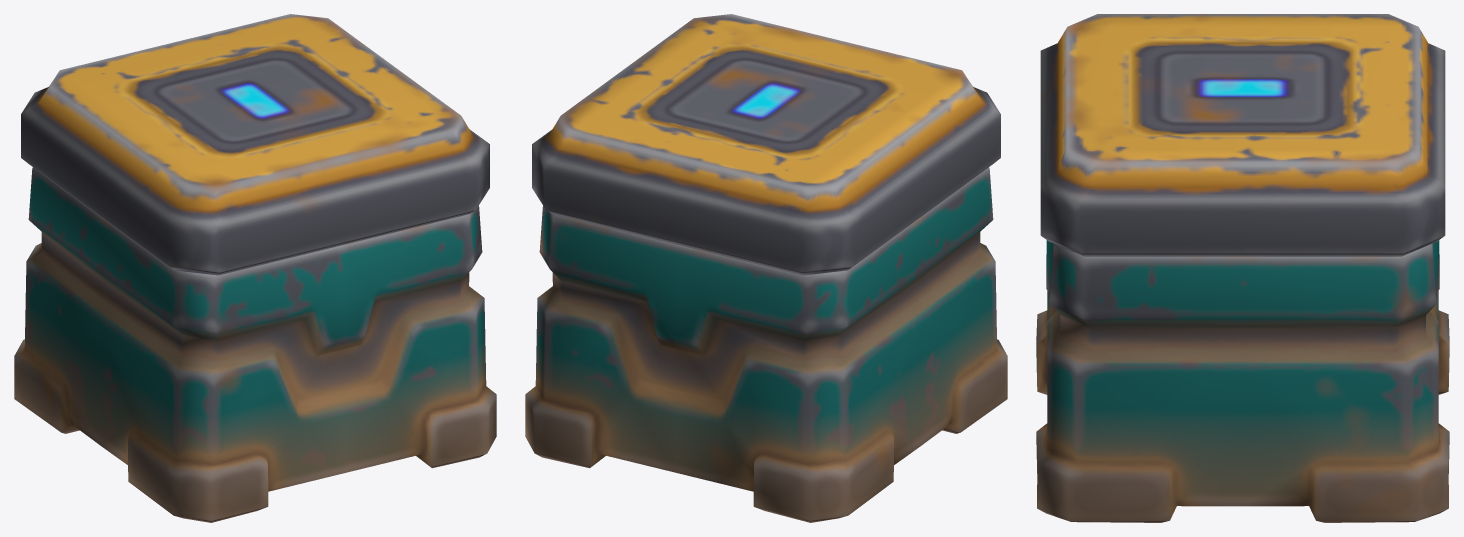
The model's file is Crate.fbx.
3 renders of one model, left to right at view 1: azimuth 30°, elevation 25°; view 2: azimuth 150°, elevation 25°; view 3: azimuth 270°, elevation 25°, orthographic. The views are drawn at different scales.
Visible parts, largest first — view 1: Crate; view 2: Crate; view 3: Crate.
Boxes of the visible parts, box(x1,y1,x2,y2) form: Crate: box(14, 14, 496, 522); Crate: box(525, 14, 1007, 522); Crate: box(1036, 14, 1449, 522).
Bounding box in the file's own units: 19.29 × 18.43 × 19.54.
